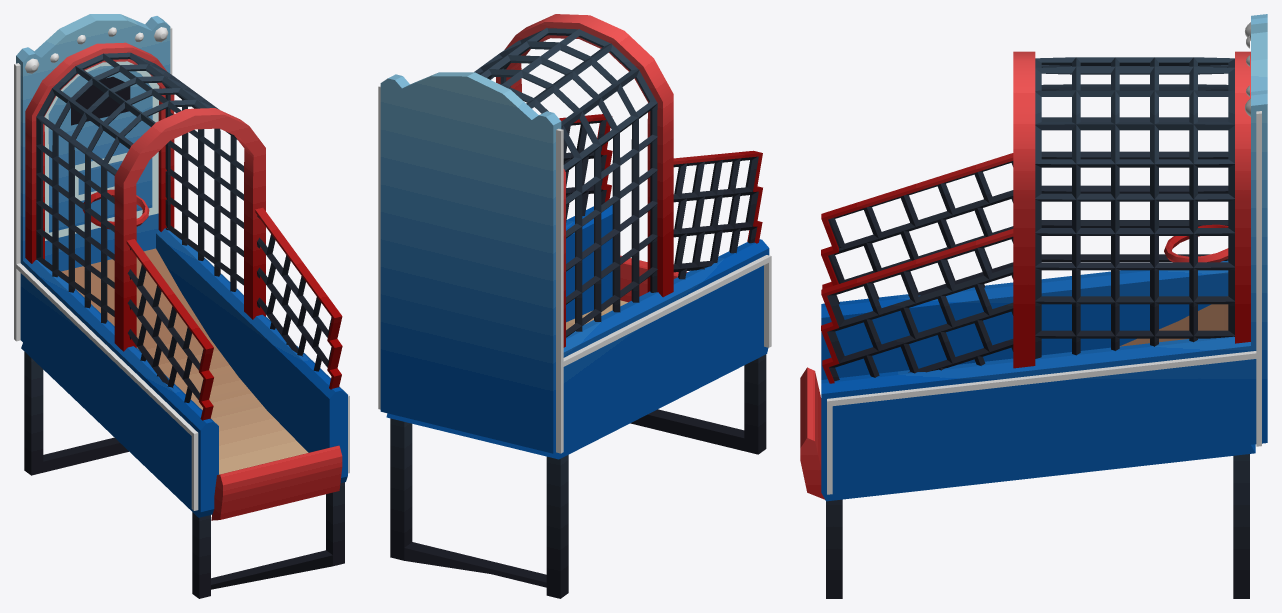
Rendered from ball_machine.fbx.
3 views of the same model, side by side, from view 1: azimuth 30°, elevation 25°; view 2: azimuth 150°, elevation 25°; view 3: azimuth 270°, elevation 25° (orthographic). The views are drawn at different scales.
Visible parts, largest first — view 1: ball_machine, g_4; view 2: ball_machine, g_4; view 3: ball_machine, g_4.
Boxes of the visible parts, box(x1,y1,x2,y2) form: ball_machine: box(16, 14, 347, 598); g_4: box(14, 27, 349, 510); ball_machine: box(380, 14, 769, 598); g_4: box(378, 85, 771, 453); ball_machine: box(800, 14, 1267, 598); g_4: box(827, 111, 1261, 494).
Bounding box in the file's own units: 387 × 1030 × 832.
